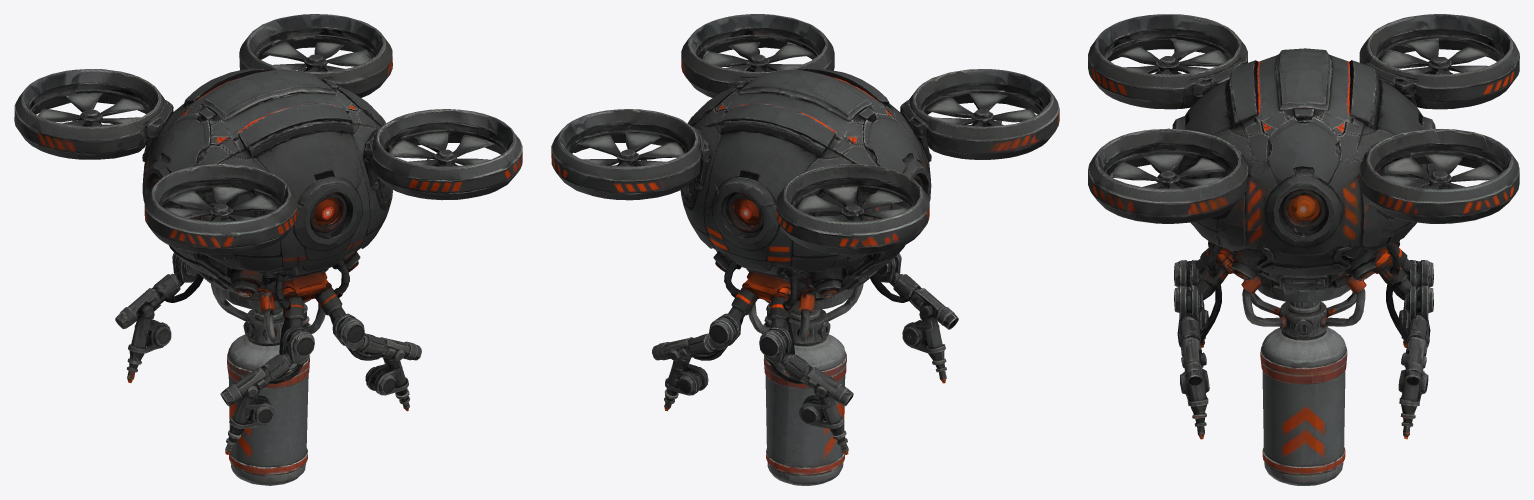
Rendered from sprayer_drone.glb.
The picture shows the model from 3 angles, left to right: view 1: azimuth 30°, elevation 25°; view 2: azimuth 150°, elevation 25°; view 3: azimuth 270°, elevation 25°; orthographic projection. The views are drawn at different scales.
Size of the model in its own units: 1.79 by 1.9 by 1.79.
Materials: 1 (1 with a texture image).
